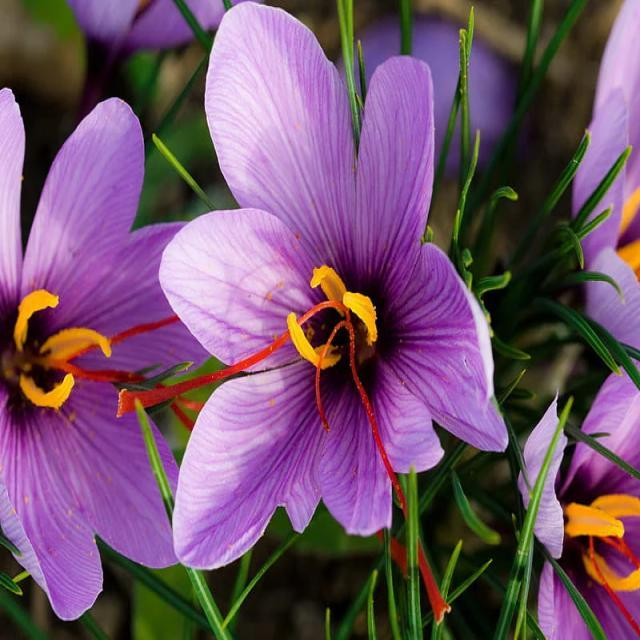Flower: (208, 78, 472, 554), (0, 112, 184, 586), (549, 400, 640, 640)
stigma: (101, 336, 296, 424), (349, 329, 426, 516), (586, 532, 640, 640), (96, 298, 188, 357)
